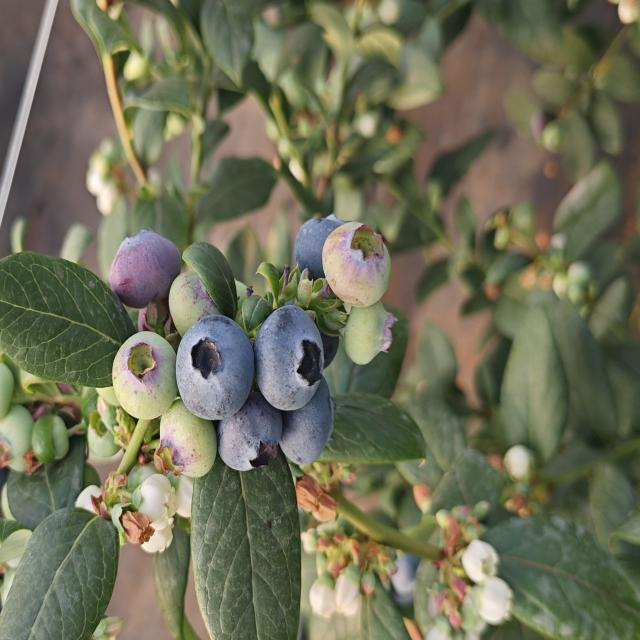ripe: (174, 312, 255, 423), (252, 302, 326, 414), (107, 226, 183, 312), (275, 384, 343, 472), (210, 402, 283, 482), (377, 524, 423, 602), (290, 205, 343, 267)
